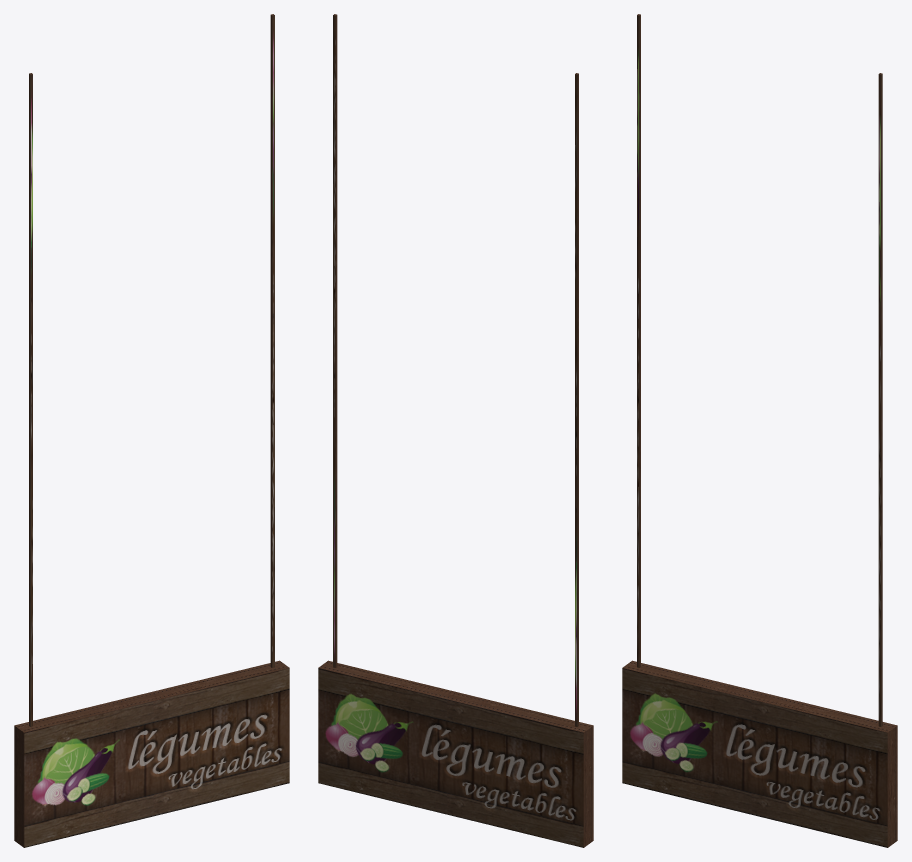
Rendered from SM_Signs_088.FBX.
3 renders of one model, left to right at view 1: azimuth 30°, elevation 25°; view 2: azimuth 150°, elevation 25°; view 3: azimuth 330°, elevation 25°, orthographic.
Parts seen in each view (by area): view 1: SM_Signs_08; view 2: SM_Signs_08; view 3: SM_Signs_08.
Boxes of the visible parts, x1=… form: SM_Signs_08: x1=14, y1=14, x2=289, y2=847; SM_Signs_08: x1=318, y1=14, x2=593, y2=847; SM_Signs_08: x1=622, y1=14, x2=897, y2=847.
Size of the model in its own units: 83.45 by 230 by 5.42.
